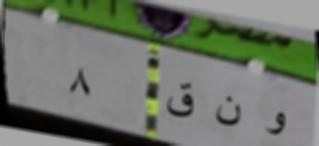noon: (212, 85, 244, 137)
qaaf: (165, 75, 197, 129), (67, 59, 96, 99)
waw: (259, 105, 290, 144)
